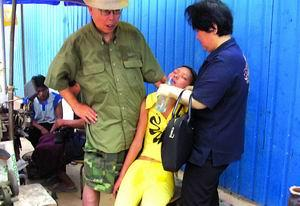fall: (112, 61, 188, 203)
